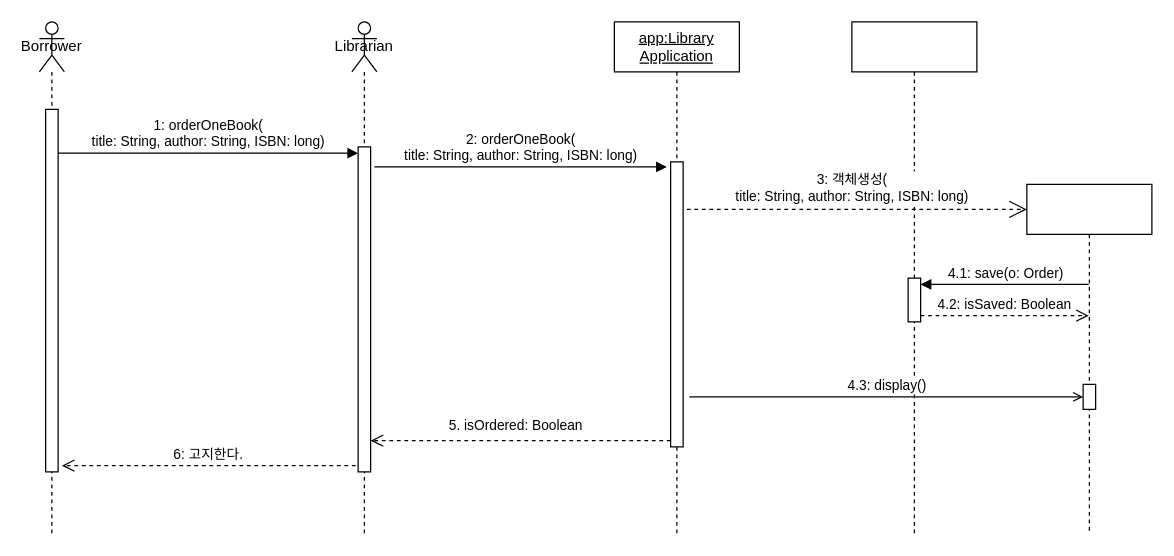
This 1174x556 diagram has some shape labels left out. The shapes that lost their labels are listed below. From the top down, each one's centre as x and y in pixels, then its label:
the point at 914,277: oc:{Order}
the point at 1089,358: o:Order
